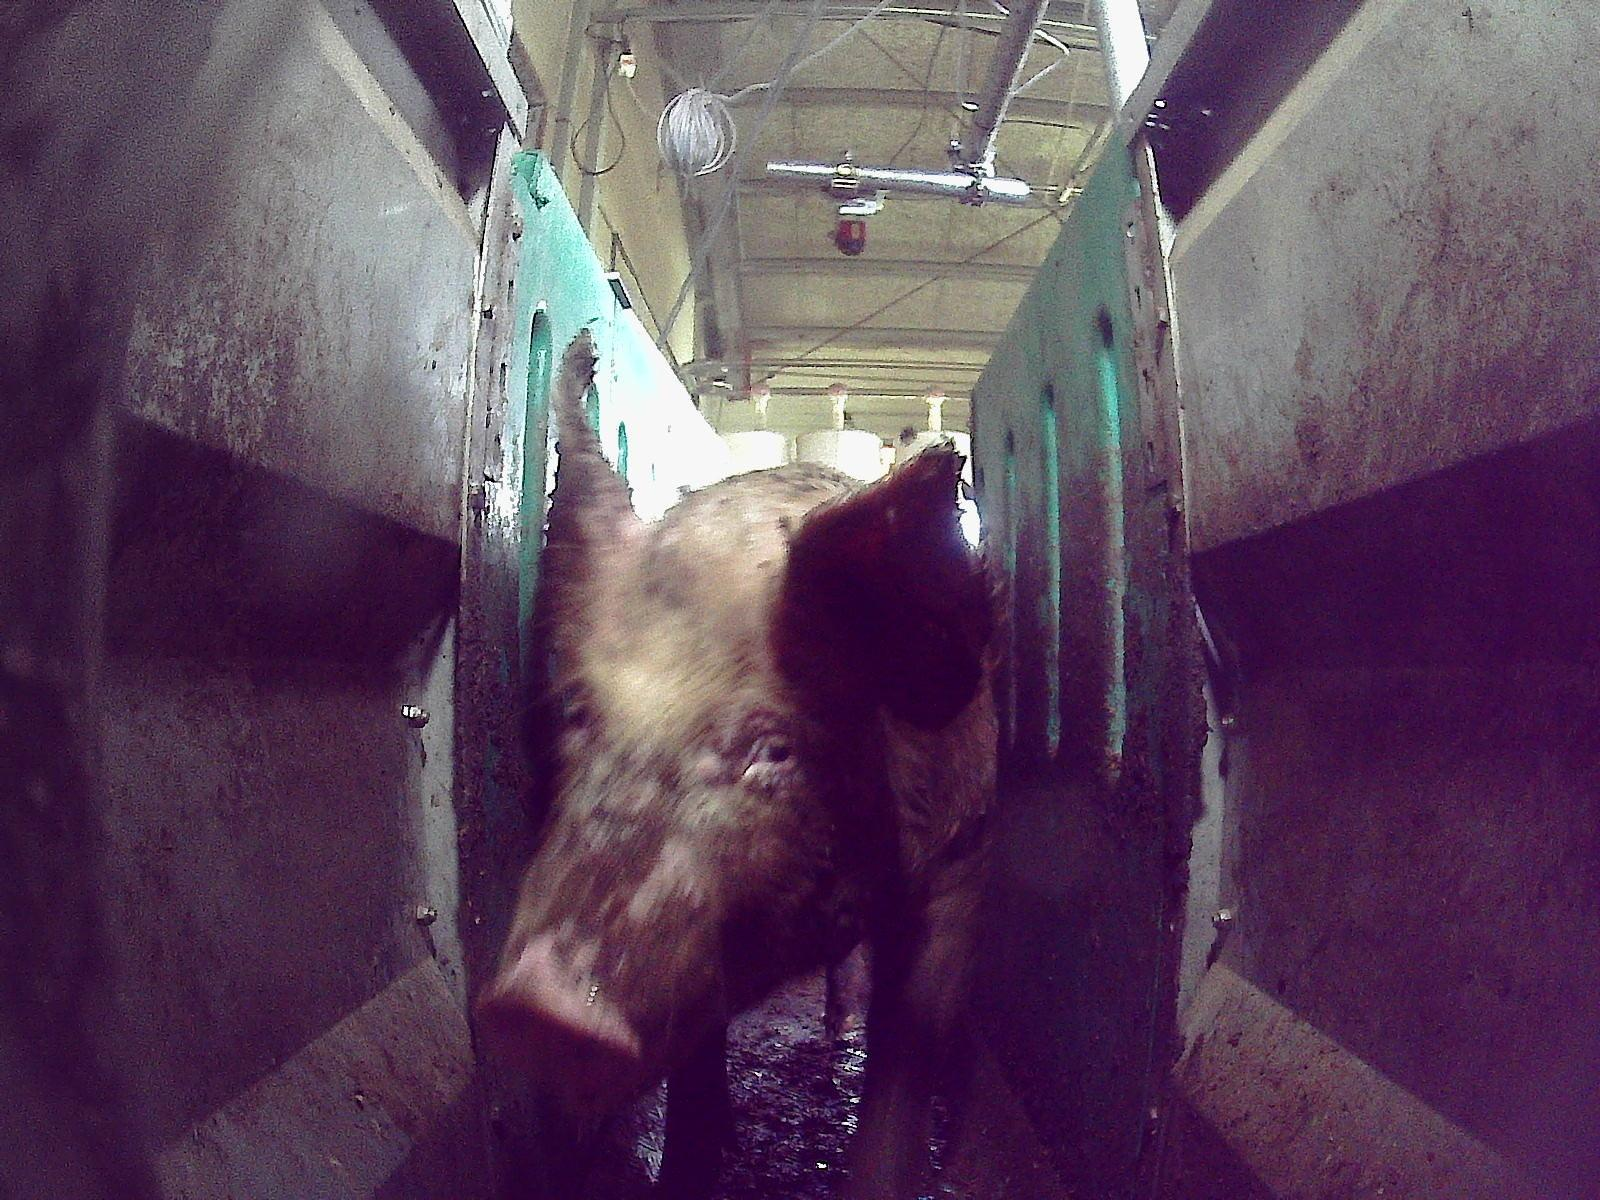Face: (469, 551, 852, 1109)
